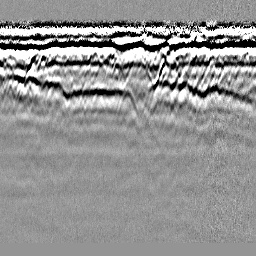cavity: (115, 85, 141, 126)
